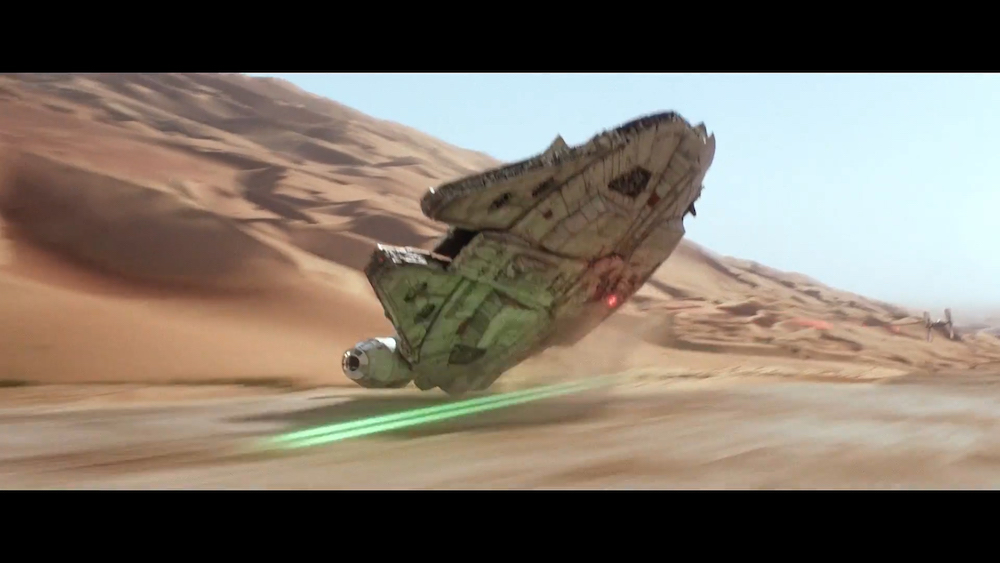Millennium Falcon: (341, 109, 718, 398)
Tie Fighter: (923, 308, 956, 343)
